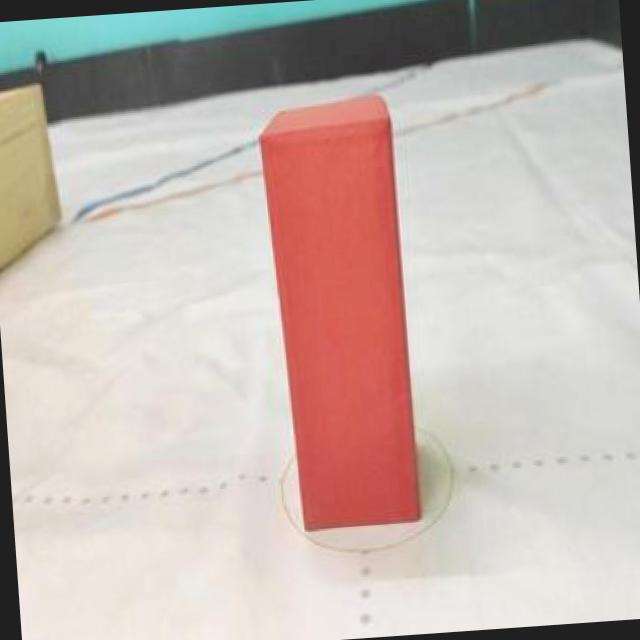redbox: (255, 88, 425, 531)
